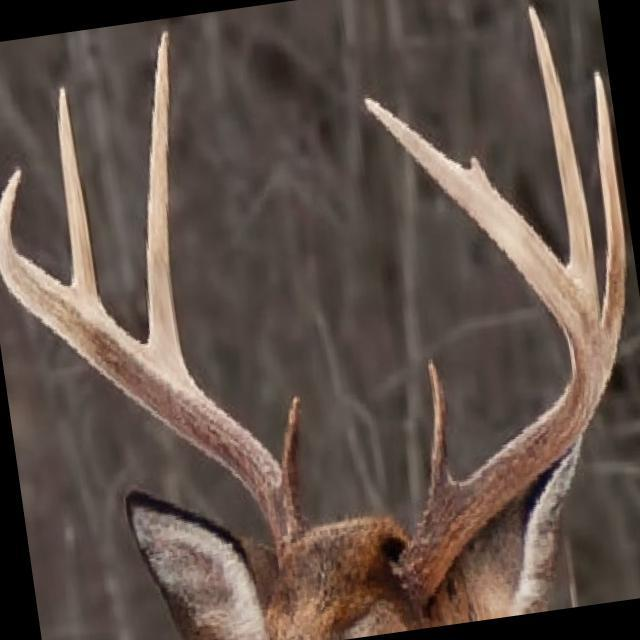L-F: (363, 97, 609, 617)
L-G1: (426, 356, 458, 501)
L-G2: (593, 70, 628, 380)
L-G3: (528, 3, 601, 319)
R-F: (0, 164, 310, 573)
R-G1: (282, 394, 302, 489)
R-G2: (147, 29, 186, 371)
R-G3: (58, 85, 101, 302)
